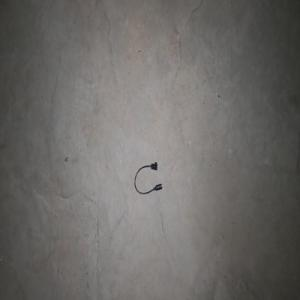Wire: (134, 161, 162, 194)
